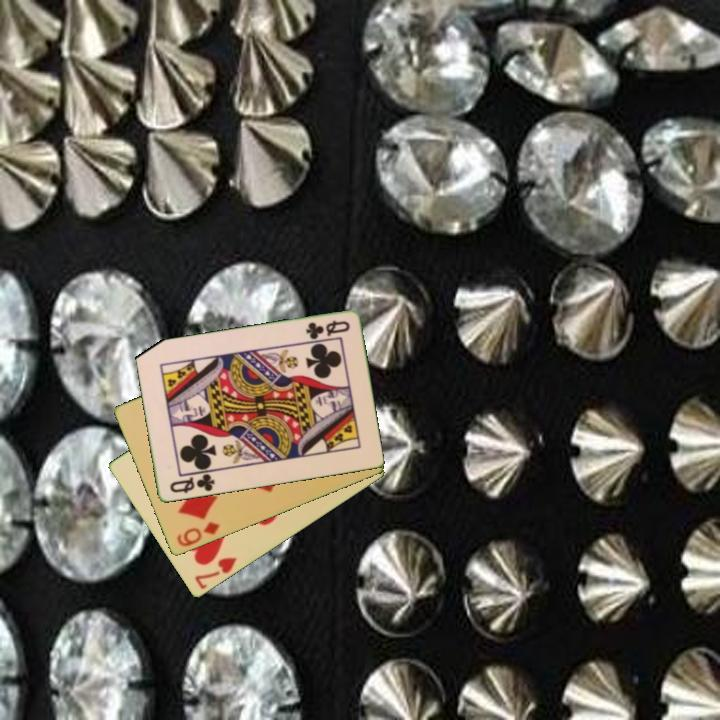6d: (173, 518, 223, 550)
7h: (191, 554, 240, 593)
Qc: (166, 470, 217, 496), (302, 317, 353, 342)
